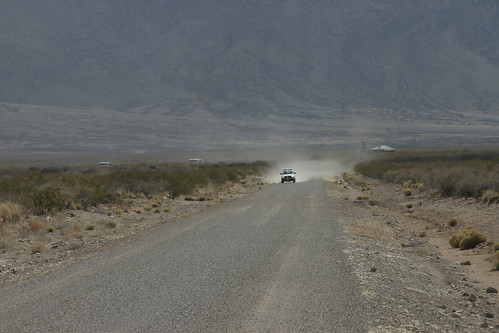car: (278, 163, 298, 180)
road: (1, 163, 348, 333)
